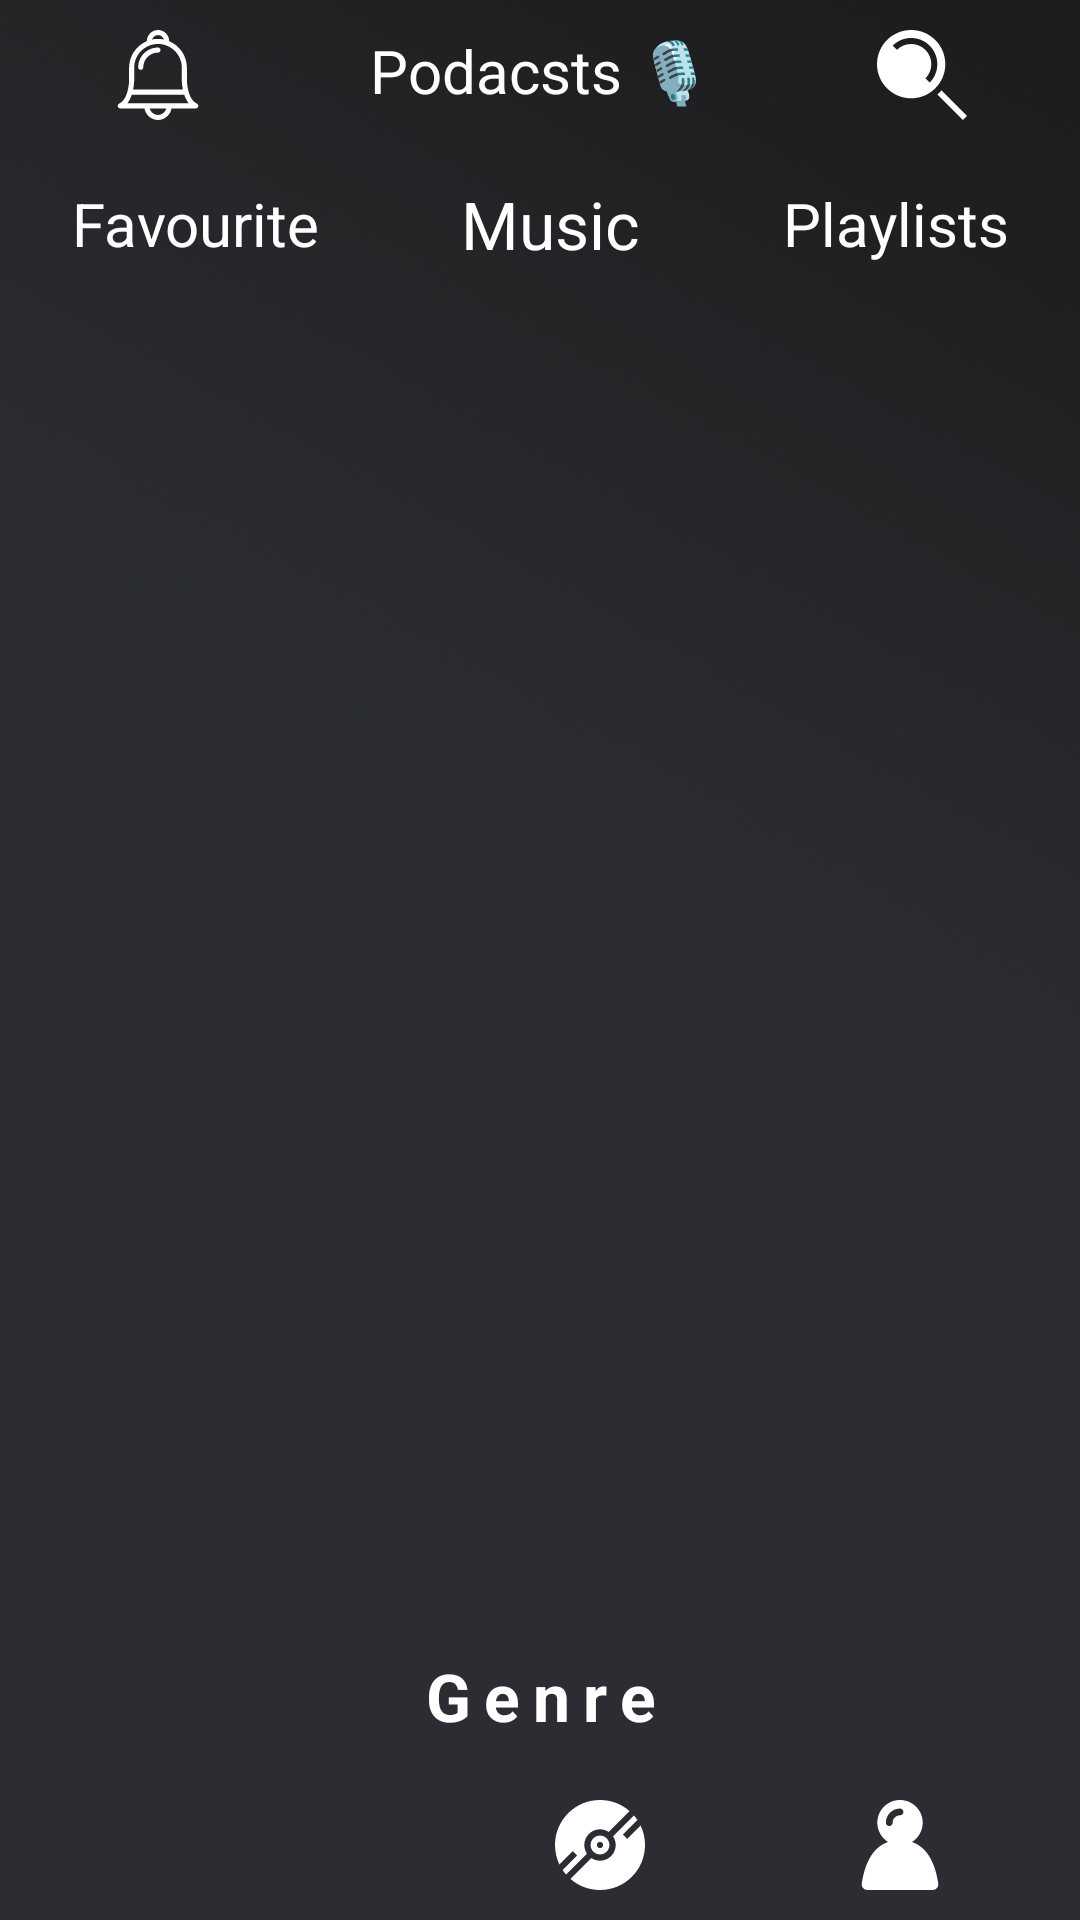

Locate icon controls on the screen. Image size 1080x1920, boxes as [x1, y1, x2, y2].
notification bell: [117, 30, 199, 120]
search: [877, 30, 967, 120]
user: [861, 1800, 939, 1890]
